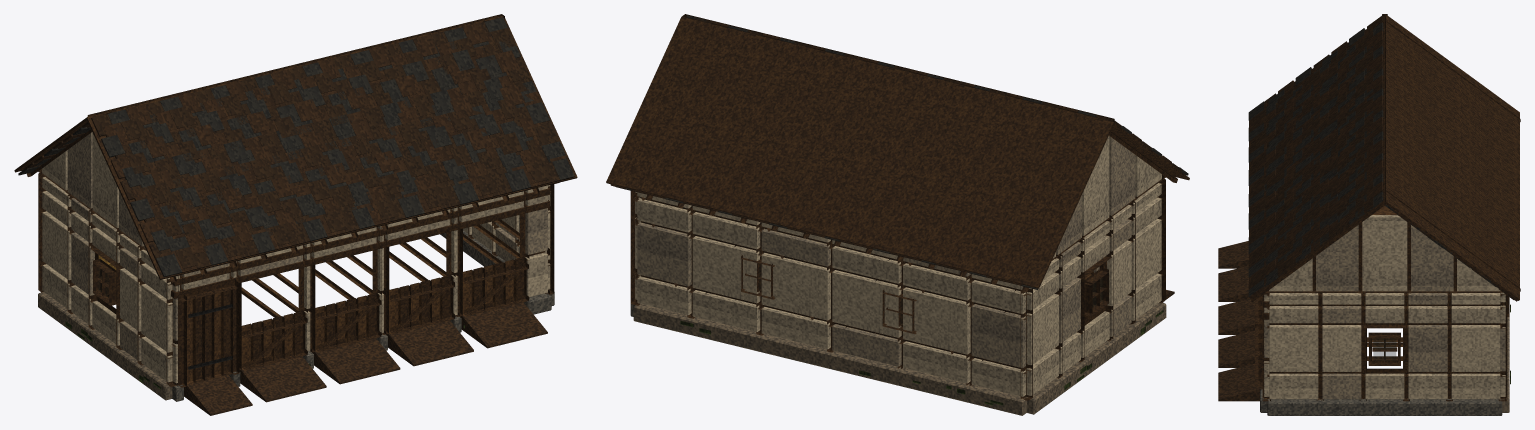
Rendered from medieval_stable_house_3d_runtime.glb.
3 views of the same model, side by side, from view 1: azimuth 30°, elevation 25°; view 2: azimuth 150°, elevation 25°; view 3: azimuth 270°, elevation 25° (orthographic). The views are drawn at different scales.
Parts seen in each view (by area): view 1: BATCH_043_main_roof_ROOF, BATCH_045_main_roof_ROOF, BATCH_044_main_roof_ROOF, BATCH_002_exterior_access_GROUND, BATCH_013_exterior_GROUND, BATCH_003_front_wall_ALL, BATCH_008_main_roof_ROOF, BATCH_009_front_wall_GROUND, BATCH_036_interior_GROUND, BATCH_014_exterior_GROUND, BATCH_004_exterior_ALL, BATCH_000_exterior_EXTERIOR (+18 smaller); view 2: BATCH_008_main_roof_ROOF, BATCH_013_exterior_GROUND, BATCH_014_exterior_GROUND, BATCH_000_exterior_EXTERIOR, BATCH_004_exterior_ALL, BATCH_017_exterior_LOFT, BATCH_015_exterior_LOFT, BATCH_018_exterior_LOFT, BATCH_020_exterior_GROUND, BATCH_045_main_roof_ROOF, BATCH_043_main_roof_ROOF, BATCH_044_main_roof_ROOF (+2 smaller); view 3: BATCH_008_main_roof_ROOF, BATCH_013_exterior_GROUND, BATCH_043_main_roof_ROOF, BATCH_045_main_roof_ROOF, BATCH_044_main_roof_ROOF, BATCH_002_exterior_access_GROUND, BATCH_017_exterior_LOFT, BATCH_004_exterior_ALL, BATCH_018_exterior_LOFT, BATCH_001_exterior_EXTERIOR, BATCH_014_exterior_GROUND, BATCH_015_exterior_LOFT (+10 smaller).
Part boxes in pixels (x1,y1,x2,y2): BATCH_043_main_roof_ROOF: [24, 22, 560, 269]; BATCH_045_main_roof_ROOF: [18, 17, 574, 277]; BATCH_044_main_roof_ROOF: [33, 23, 575, 273]; BATCH_002_exterior_access_GROUND: [184, 302, 547, 415]; BATCH_013_exterior_GROUND: [42, 191, 550, 382]; BATCH_003_front_wall_ALL: [167, 184, 554, 386]; BATCH_008_main_roof_ROOF: [14, 14, 577, 282]; BATCH_009_front_wall_GROUND: [173, 195, 547, 383]; BATCH_036_interior_GROUND: [241, 219, 519, 317]; BATCH_014_exterior_GROUND: [71, 227, 518, 361]; BATCH_004_exterior_ALL: [38, 171, 551, 386]; BATCH_000_exterior_EXTERIOR: [38, 292, 172, 400]; BATCH_008_main_roof_ROOF: [606, 14, 1189, 292]; BATCH_013_exterior_GROUND: [635, 197, 1161, 396]; BATCH_014_exterior_GROUND: [637, 219, 1131, 367]; BATCH_000_exterior_EXTERIOR: [633, 302, 1166, 415]; BATCH_004_exterior_ALL: [630, 177, 1165, 400]; BATCH_017_exterior_LOFT: [1053, 136, 1161, 258]; BATCH_015_exterior_LOFT: [635, 183, 1161, 289]; BATCH_018_exterior_LOFT: [1056, 136, 1135, 254]; BATCH_020_exterior_GROUND: [741, 255, 1108, 333]; BATCH_045_main_roof_ROOF: [616, 15, 1188, 289]; BATCH_043_main_roof_ROOF: [631, 17, 1181, 281]; BATCH_044_main_roof_ROOF: [610, 20, 1171, 285]; BATCH_008_main_roof_ROOF: [1251, 14, 1519, 302]; BATCH_013_exterior_GROUND: [1269, 305, 1505, 399]; BATCH_043_main_roof_ROOF: [1248, 15, 1514, 299]; BATCH_045_main_roof_ROOF: [1248, 22, 1496, 296]; BATCH_044_main_roof_ROOF: [1249, 24, 1517, 301]; BATCH_002_exterior_access_GROUND: [1218, 241, 1262, 401]; BATCH_017_exterior_LOFT: [1269, 215, 1500, 291]; BATCH_004_exterior_ALL: [1264, 292, 1507, 401]; BATCH_018_exterior_LOFT: [1316, 225, 1453, 291]; BATCH_001_exterior_EXTERIOR: [1260, 389, 1502, 415]; BATCH_014_exterior_GROUND: [1322, 306, 1505, 399]; BATCH_015_exterior_LOFT: [1269, 292, 1505, 304].
Bounding box in the file's own units: 11.31 × 6.26 × 7.71.
Materials: 15 (15 with a texture image).
